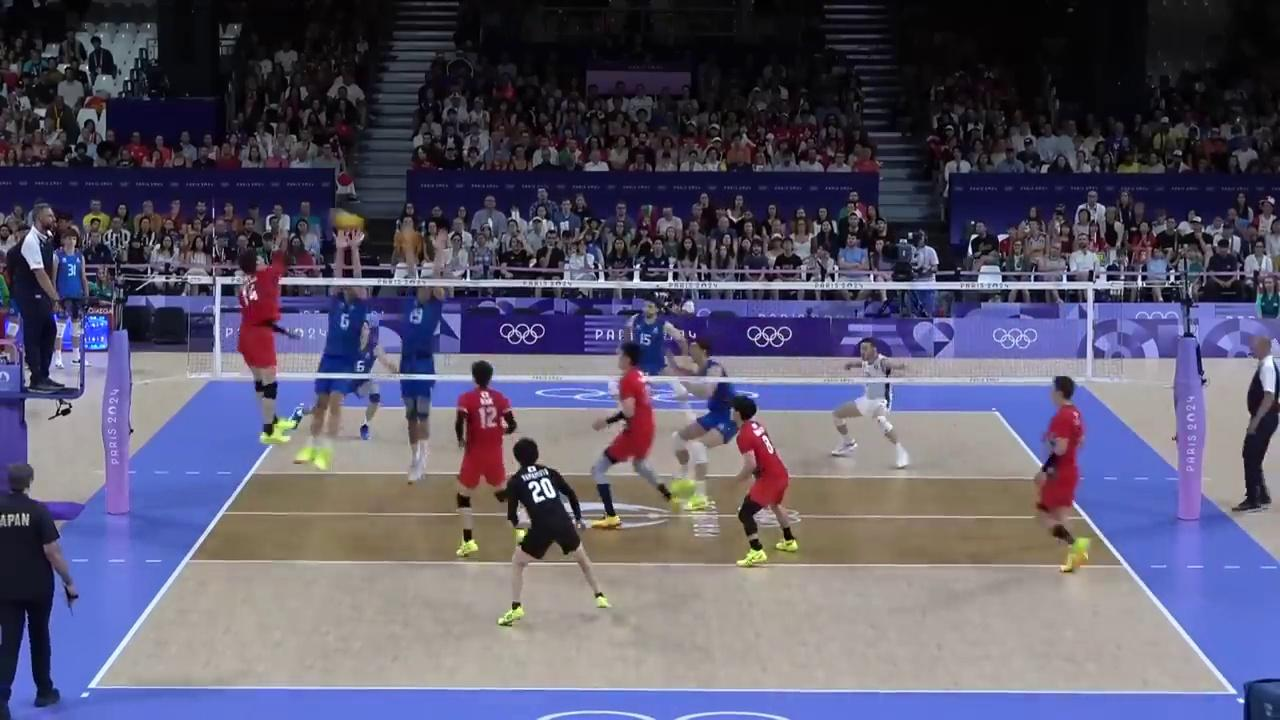ball: (331, 209, 363, 227)
